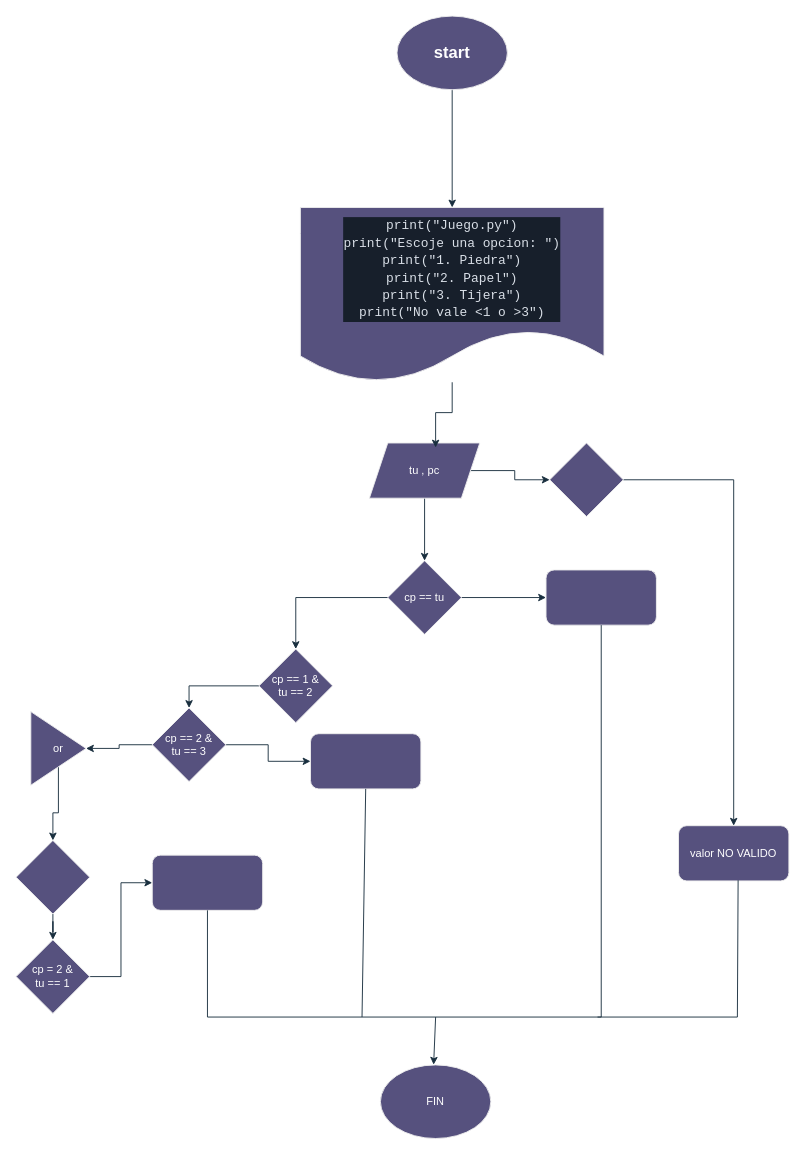
Some shapes in this 805 by 1155 pixel diagram are drawn without their labels. Here are the shapes that lost their labels. From the top down, the centre of each, then its label:
At (586,479): "tu <1 or tu >3".
At (600,597): "Empate".
At (365,761): "winner".
At (52,877): "cp == 3 tu == 2".
At (207,882): "GAME OVER".
